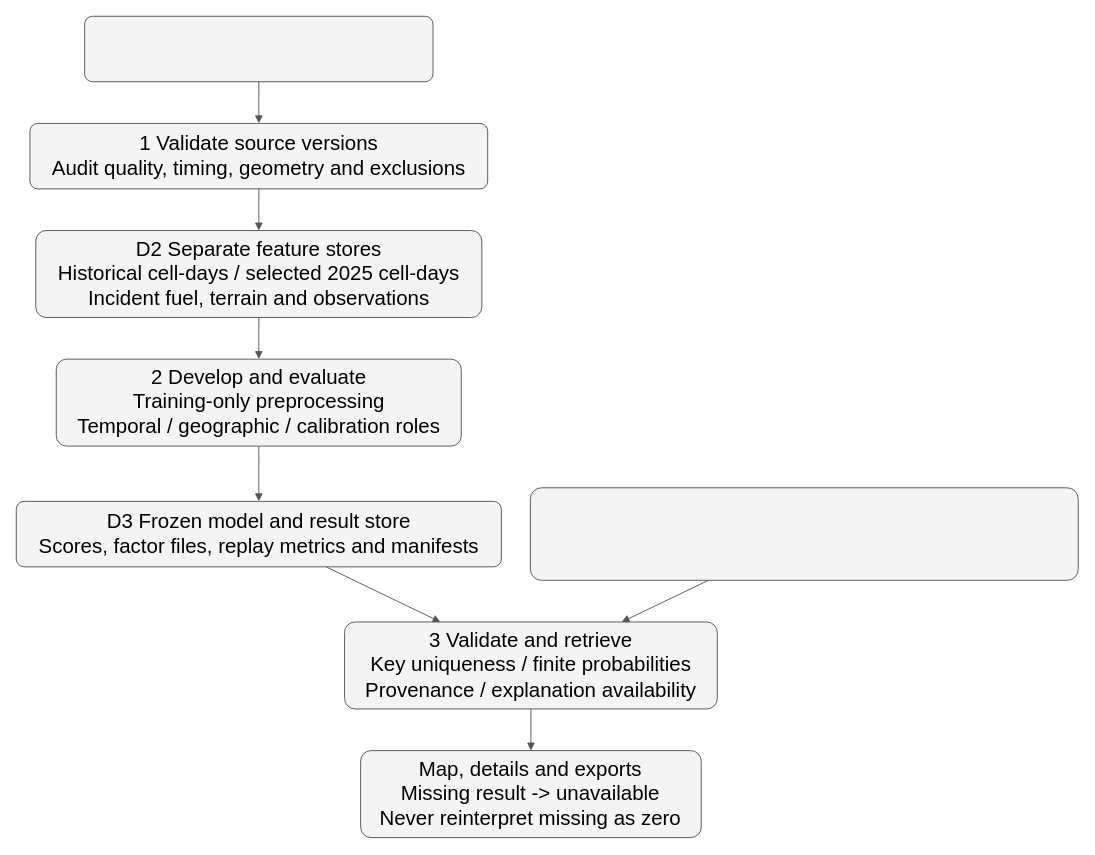
Image size: 1095x855. Some labels were removed from this diagram. The centre of each missing label's shape, as x and y in pixels:
Analyst request Study + date + cell / incident + horizon: [803,533]
D1 Source archives Fire records / weather / landscape: [258,48]
